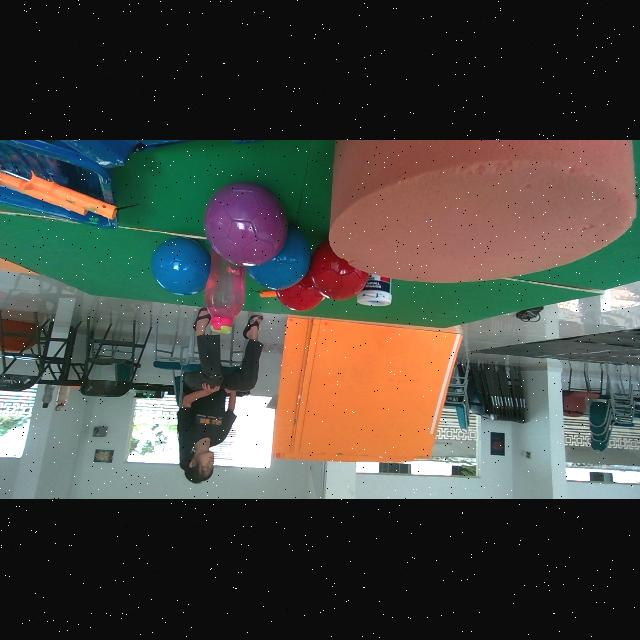B: (247, 228, 311, 291), (151, 238, 211, 296)
P: (205, 184, 288, 268)
R: (309, 242, 369, 301), (275, 274, 325, 312)
